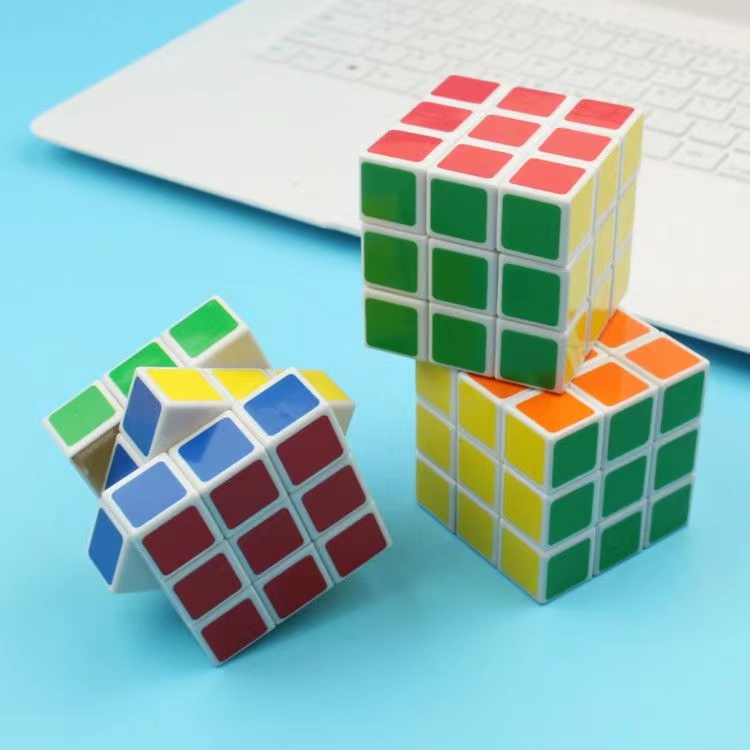cube: (40, 292, 399, 674), (409, 296, 714, 611), (357, 71, 647, 395)
